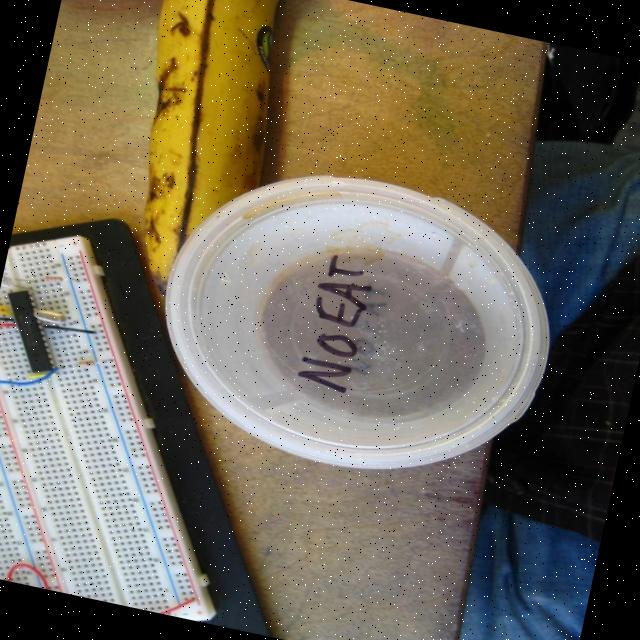banana: (142, 0, 279, 292)
